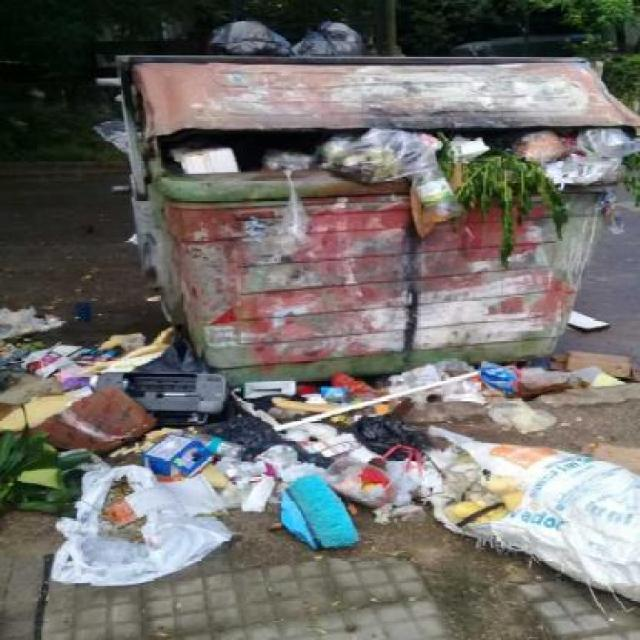garbage: (246, 378, 638, 590), (2, 306, 246, 584), (155, 136, 640, 217), (211, 13, 382, 73), (500, 354, 640, 381), (566, 300, 622, 338)
